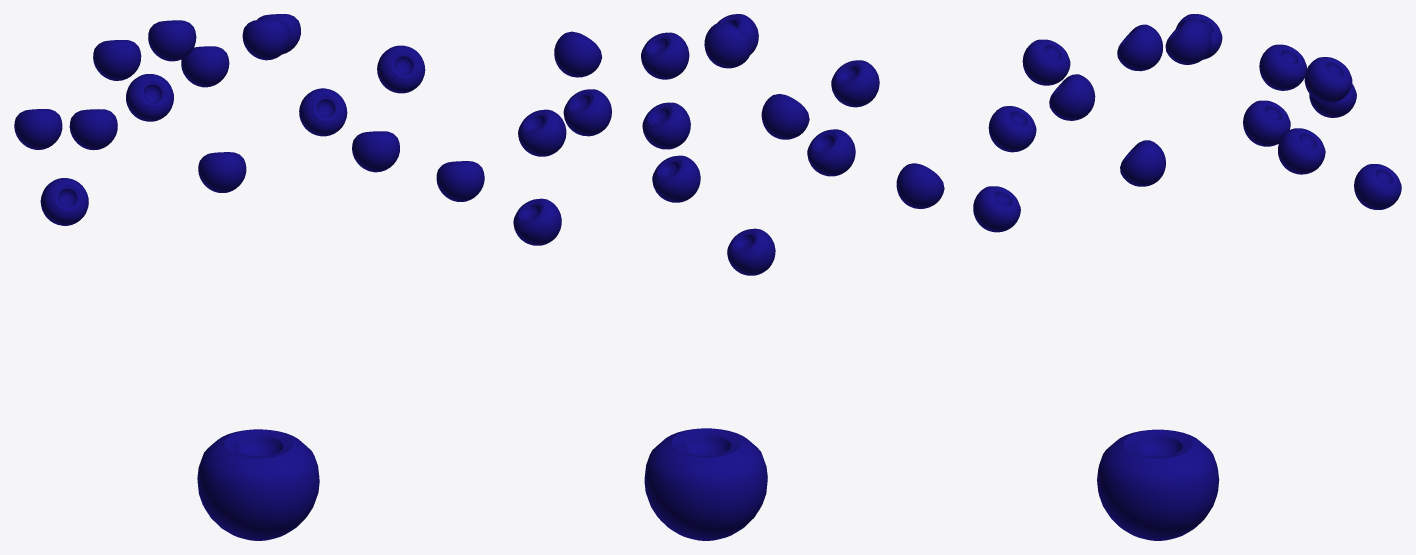
The model's file is PanCake_BlueBerryf.fbx.
3 views of the same model, side by side, from view 1: azimuth 30°, elevation 25°; view 2: azimuth 150°, elevation 25°; view 3: azimuth 270°, elevation 25° (orthographic).
Parts seen in each view (by area): view 1: BlueBerry_top, BlueBerry_sample; view 2: BlueBerry_top, BlueBerry_sample; view 3: BlueBerry_top, BlueBerry_sample.
Boxes of the visible parts, x1,y1,x2,y2 form: BlueBerry_top: (14,14,484,225); BlueBerry_sample: (197,429,319,540); BlueBerry_top: (513,14,944,275); BlueBerry_sample: (644,428,767,540); BlueBerry_top: (973,14,1401,232); BlueBerry_sample: (1097,429,1219,540).
Size of the model in its own units: 0.4903 by 0.5888 by 0.4806.
